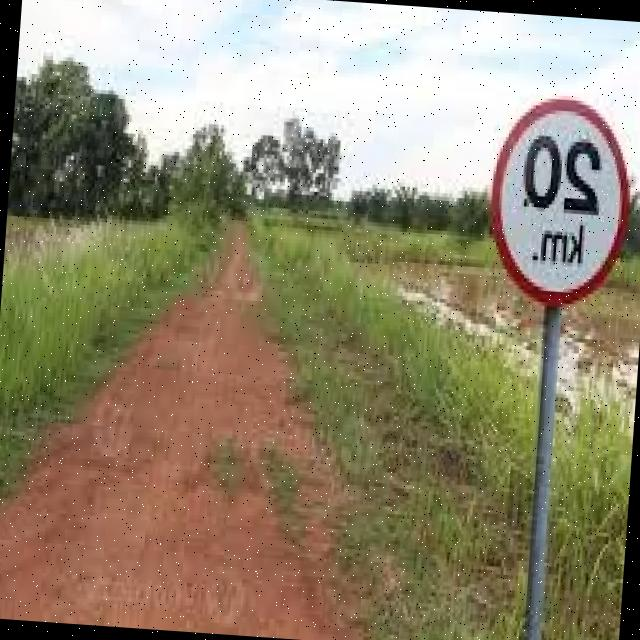speed_limit_20: (474, 86, 640, 313)
